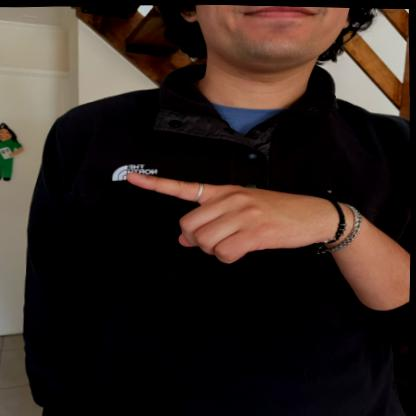S: (120, 161, 338, 270)
